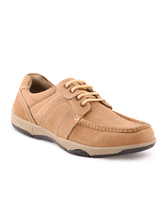shoes: (8, 72, 158, 156)
